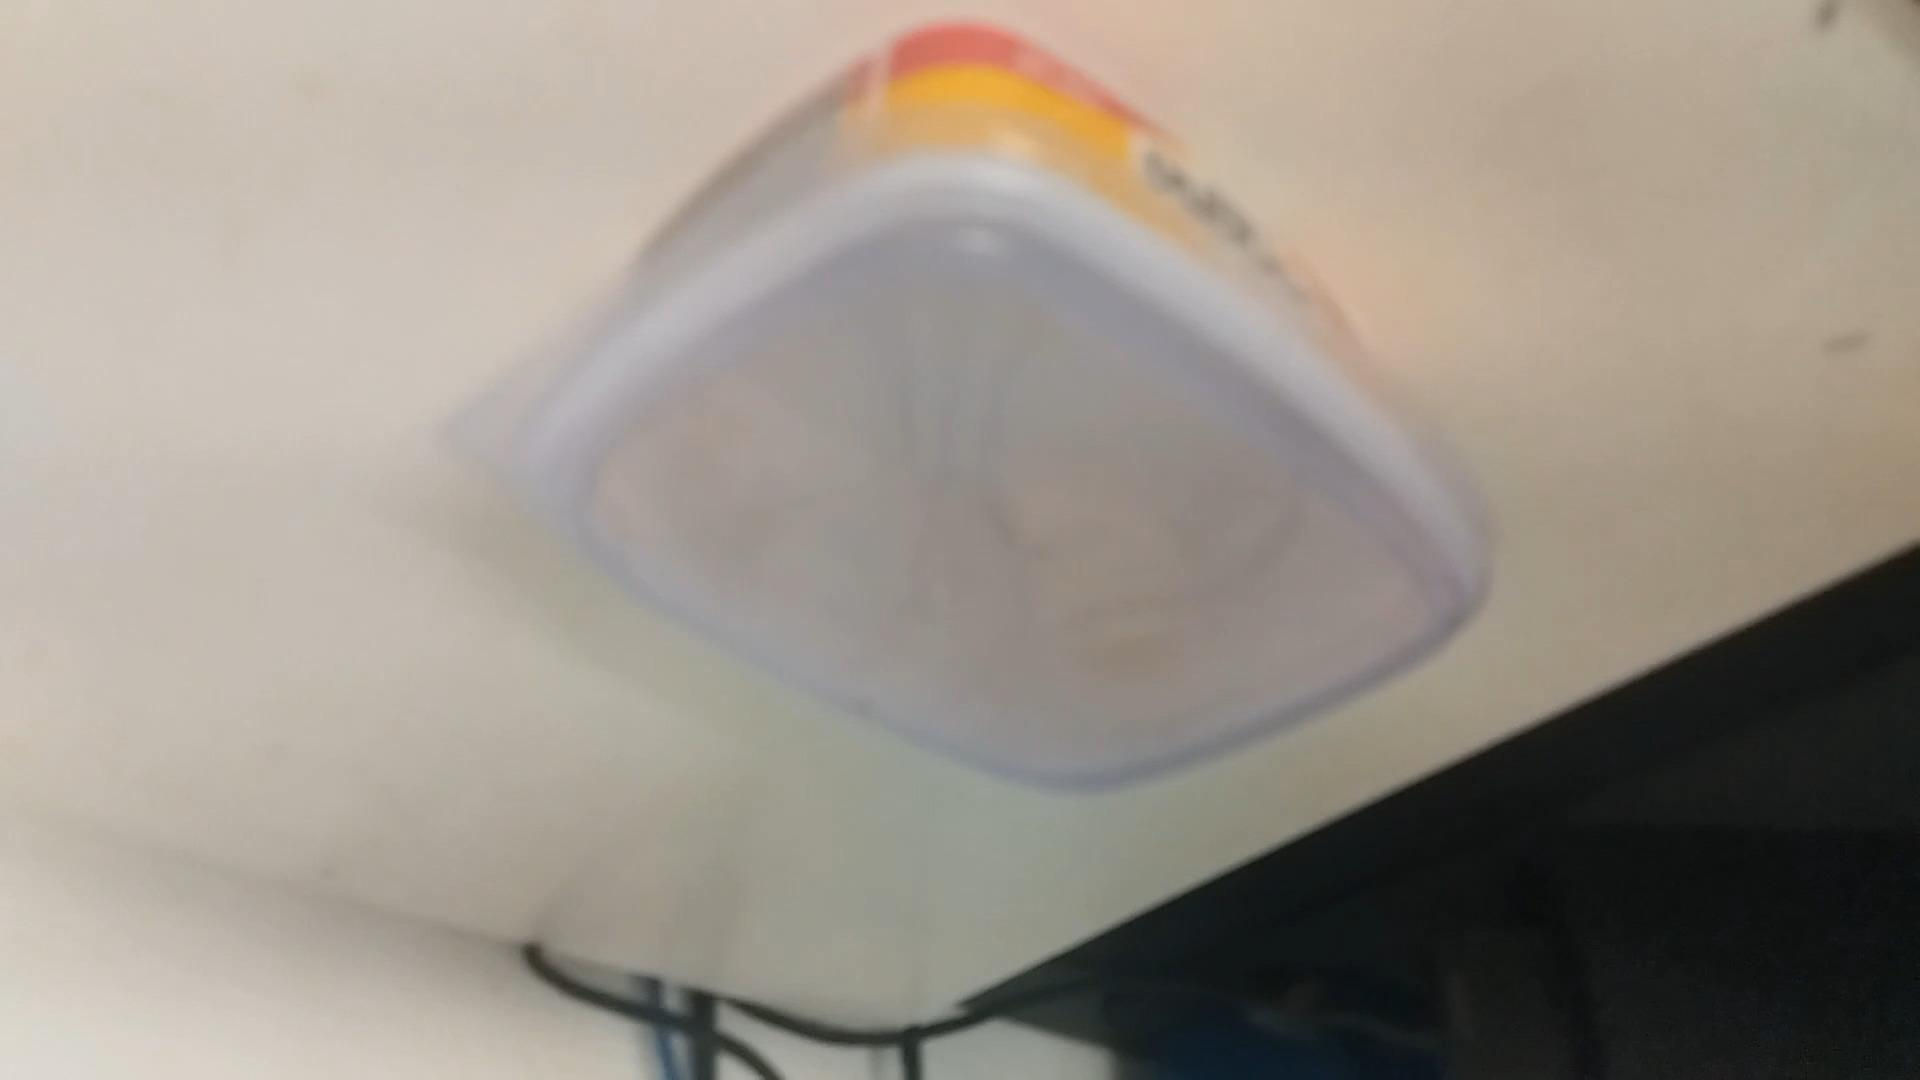butter: (464, 40, 1494, 799)
